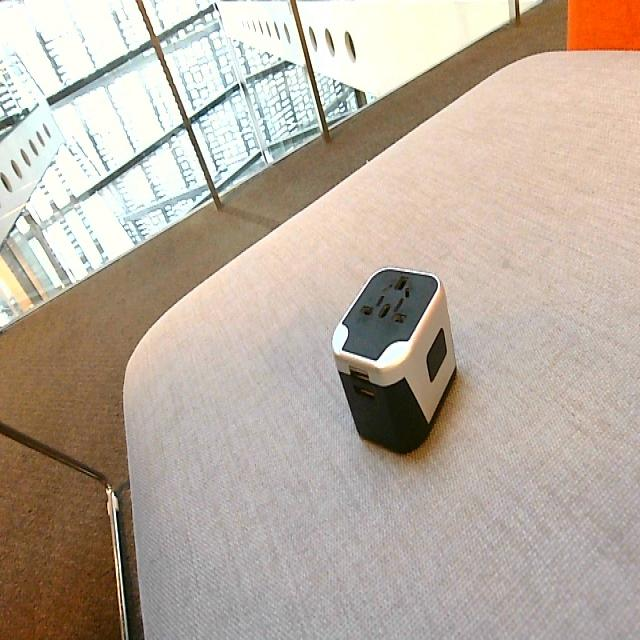adapter: (330, 264, 457, 455)
